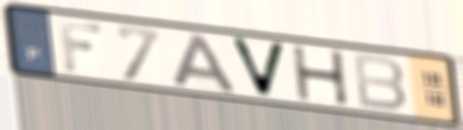7: (113, 23, 165, 83)
A: (169, 31, 240, 95)
B: (350, 51, 409, 113)
F: (56, 17, 104, 74)
H: (288, 45, 352, 108)
V: (226, 35, 290, 100)
